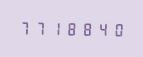eight: (62, 19, 76, 37), (77, 20, 91, 37)
four: (92, 20, 106, 37)
one: (47, 19, 61, 36)
seven: (17, 19, 31, 36), (32, 19, 46, 36)
zero: (107, 20, 121, 37)
